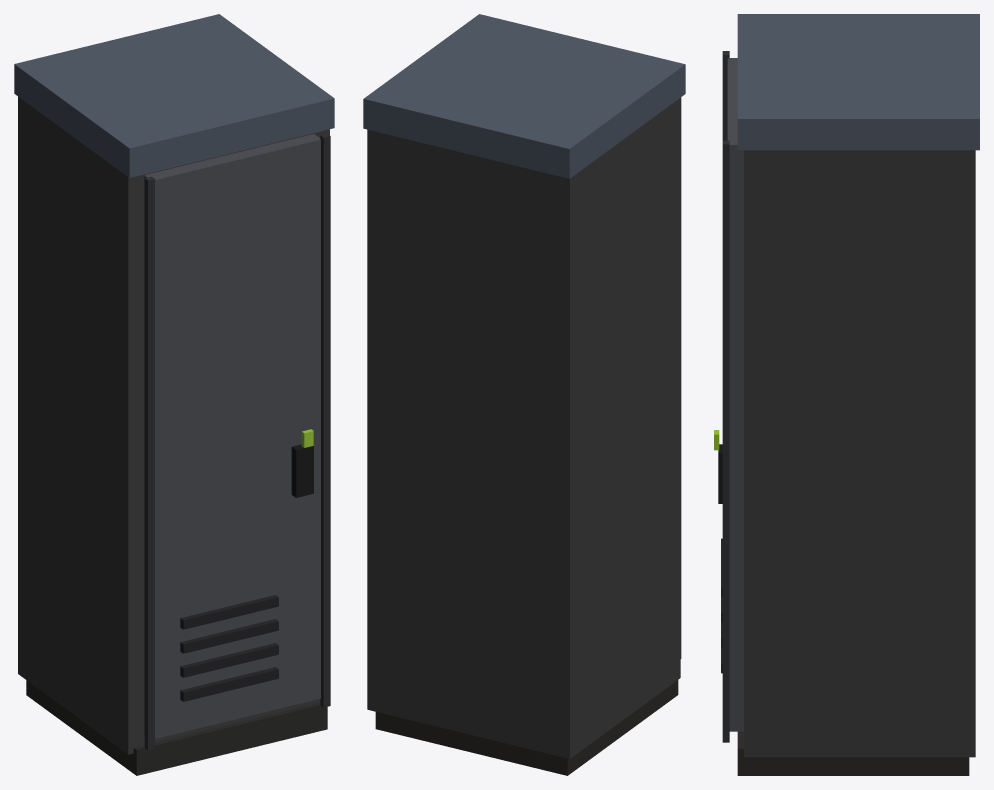
Rendered from CMU3DLocker.glb.
The picture shows the model from 3 angles, left to right: view 1: azimuth 30°, elevation 25°; view 2: azimuth 150°, elevation 25°; view 3: azimuth 270°, elevation 25°; orthographic projection. The views are drawn at different scales.
Visible parts, largest first — view 1: closed door, locker body, blue gray top cap, dark plinth, left door border, right door border, lower ventilation slit (×4), recessed handle; view 2: locker body, blue gray top cap, dark plinth, left door border; view 3: locker body, blue gray top cap, closed door, right door border, dark plinth, left door border.
Part boxes in pixels (x1,y1,x2,y2): closed door: (144,134,320,738); locker body: (18,96,329,754); blue gray top cap: (14,14,334,177); dark plinth: (26,680,327,775); left door border: (144,176,154,750); right door border: (320,133,330,707); lower ventilation slit (×4): (180,595,278,701); recessed handle: (291,444,313,497); locker body: (367,98,680,758); blue gray top cap: (363,14,685,178); dark plinth: (375,680,678,775); left door border: (680,97,681,658); locker body: (744,150,975,757); blue gray top cap: (737,14,979,150); closed door: (727,58,743,731); right door border: (722,140,729,742); dark plinth: (737,731,969,775); left door border: (722,51,729,140).
Bounding box in the file's own units: 0.58 × 1.7 × 0.62.
